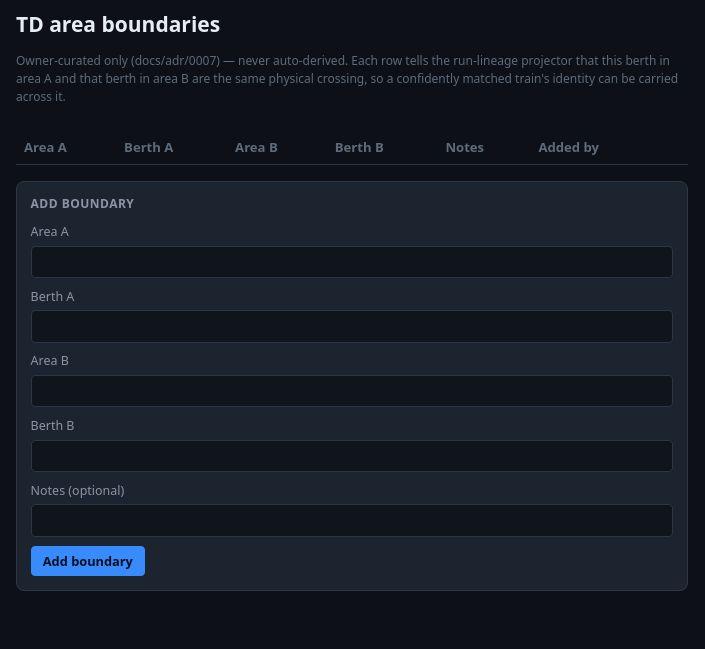
TdBoundariesPage › shows the server's error message when creation fails
expect the heading "Add boundary" is shown: met, box [31, 195, 134, 212]
Type "PX" into the field labelled "Area A" at point(352, 262), box [31, 246, 673, 278]
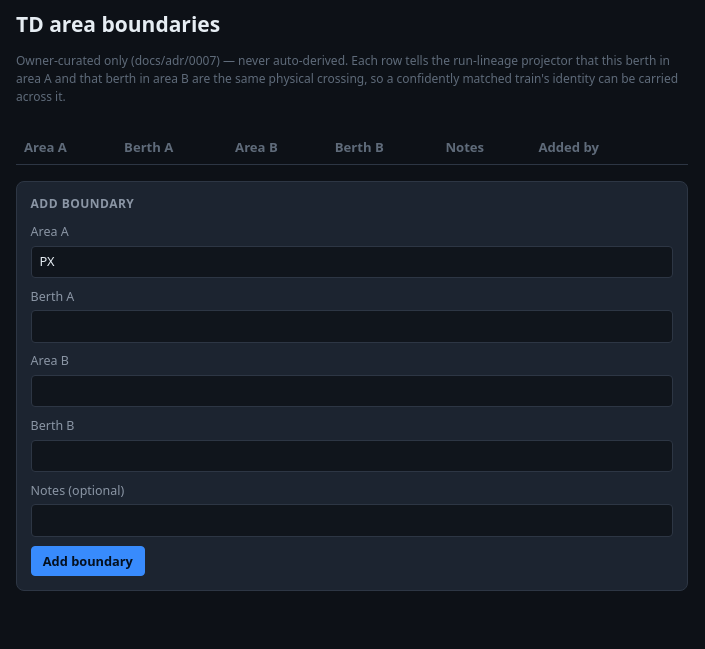
Type "0076" into the field labelled "Berth A" at point(352, 327), box [31, 310, 673, 343]
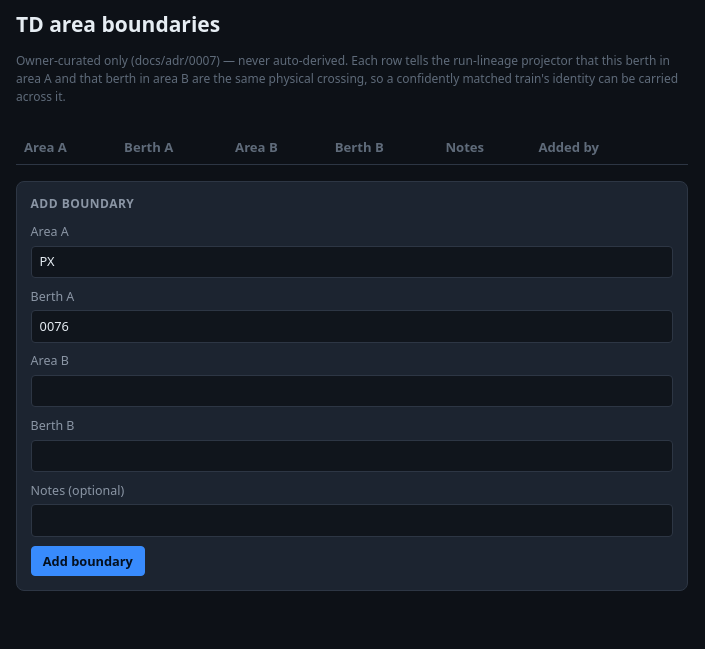
Type "LA" into the field labelled "Area B" at point(352, 391), box [31, 375, 673, 407]
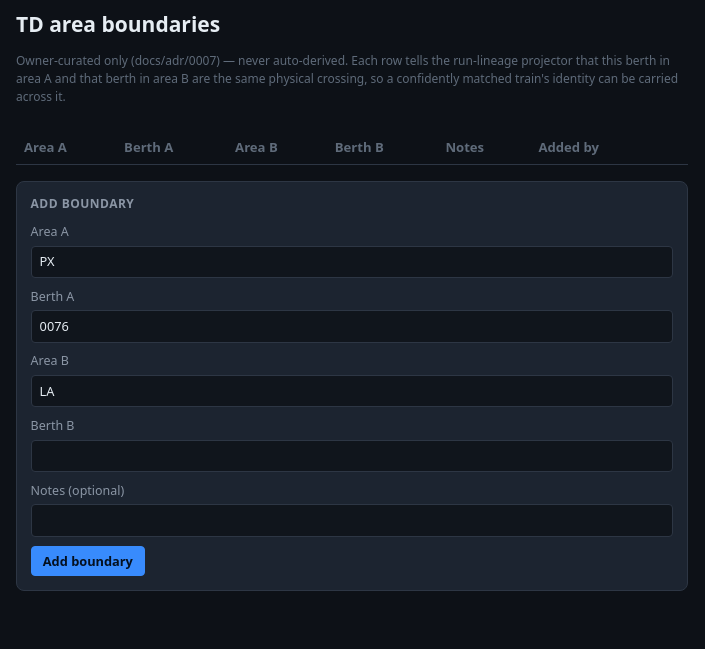
Type "0001" into the field labelled "Berth B" at point(352, 456), box [31, 440, 673, 472]
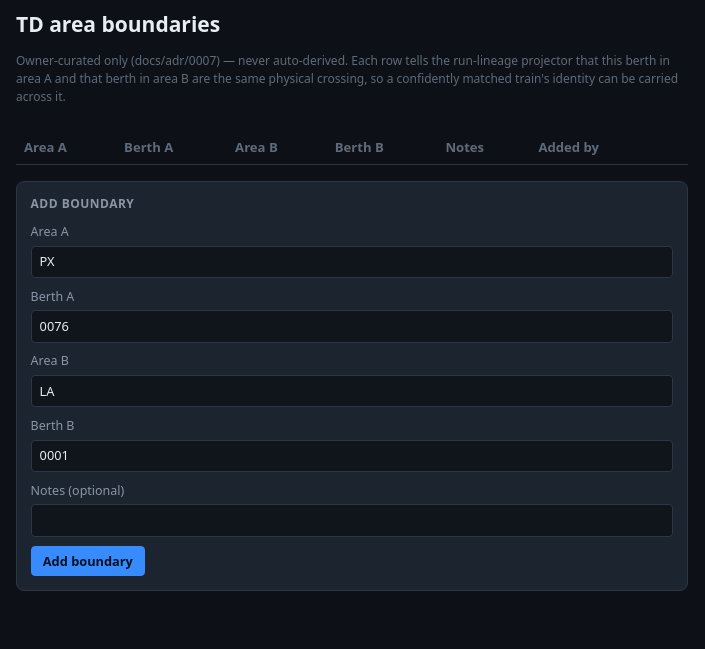
Click the button "Add boundary" at point(88, 561), box [31, 546, 145, 576]
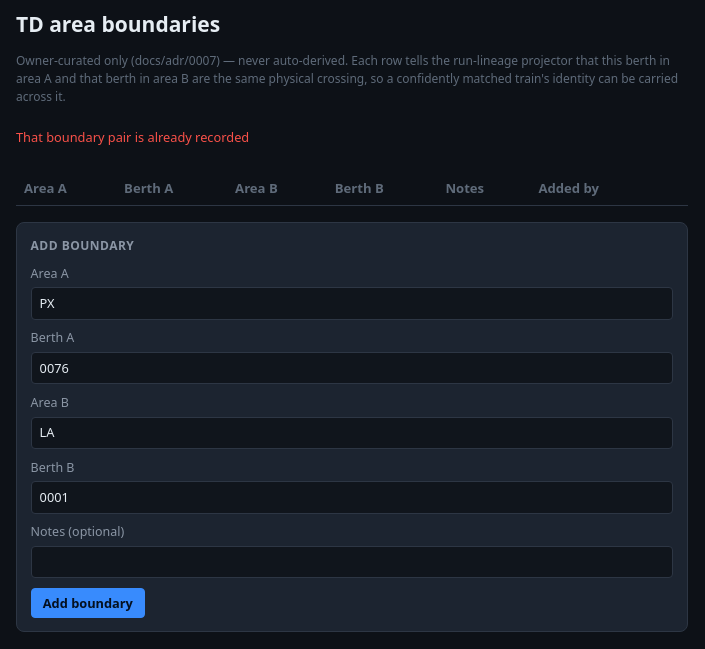
expect the message reads "That boundary pair is already recorded": met, box [16, 128, 249, 146]
